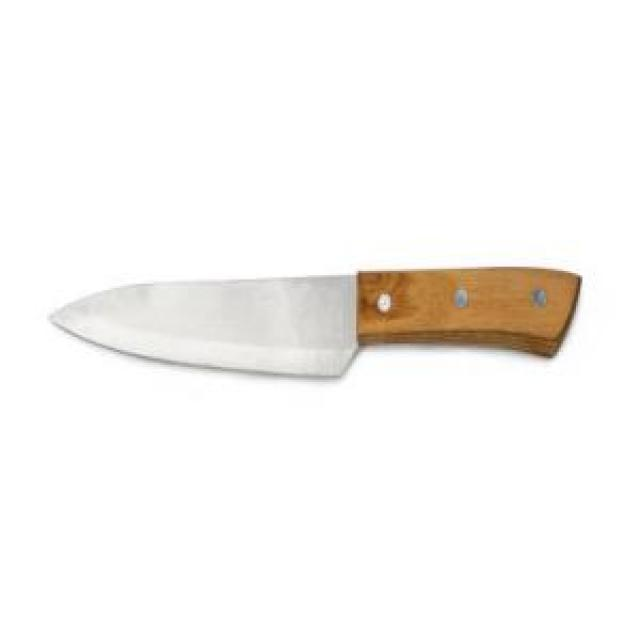knife: (54, 271, 582, 382)
